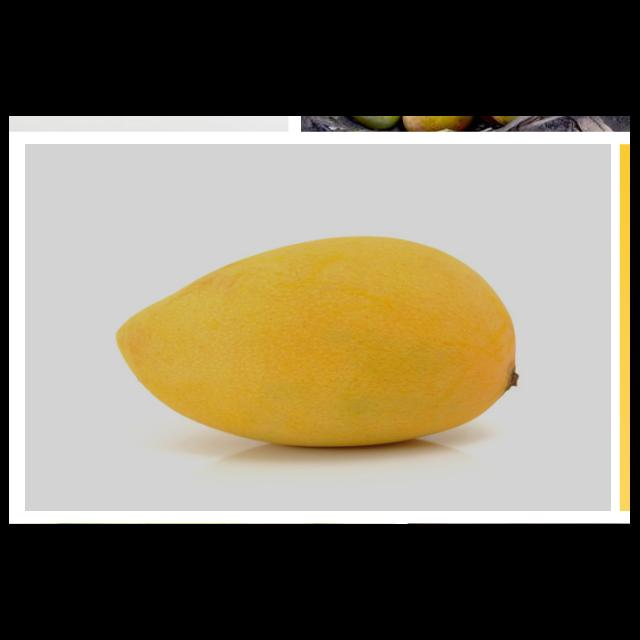mango: (112, 234, 522, 451)
